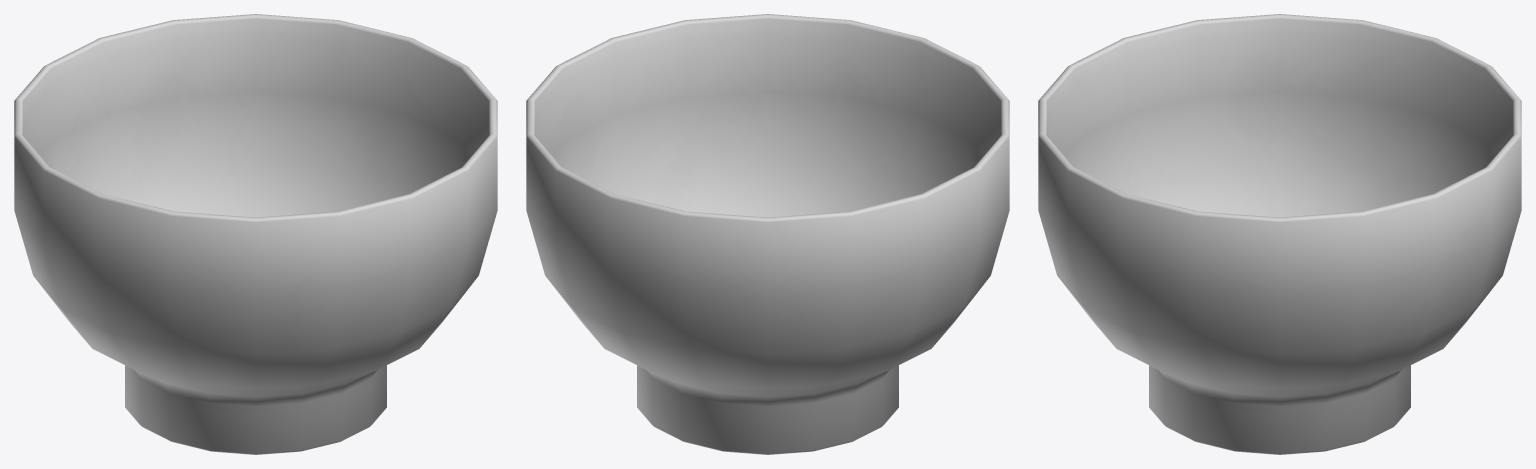
Rendered from FoodBowl_01 1.FBX.
3 views of the same model, side by side, from view 1: azimuth 30°, elevation 25°; view 2: azimuth 150°, elevation 25°; view 3: azimuth 270°, elevation 25° (orthographic).
Parts seen in each view (by area): view 1: FoodBowl_01; view 2: FoodBowl_01; view 3: FoodBowl_01.
Boxes of the visible parts, x1,y1,x2,y2 form: FoodBowl_01: (14, 14, 497, 454); FoodBowl_01: (526, 14, 1009, 454); FoodBowl_01: (1038, 14, 1521, 454).
Size of the model in its own units: 11 by 7 by 10.83.
1 material, 1 textured.
